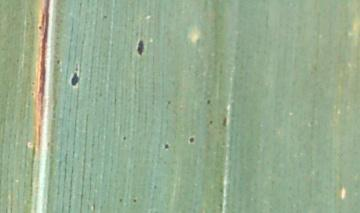tarspot: (137, 39, 145, 56), (71, 72, 80, 87), (188, 136, 195, 144), (222, 117, 227, 128), (163, 143, 169, 150), (37, 23, 43, 30), (166, 99, 172, 106), (206, 99, 211, 105), (122, 135, 127, 141), (102, 15, 108, 20), (118, 197, 123, 203), (208, 120, 213, 124), (133, 198, 137, 203), (56, 60, 61, 64)
